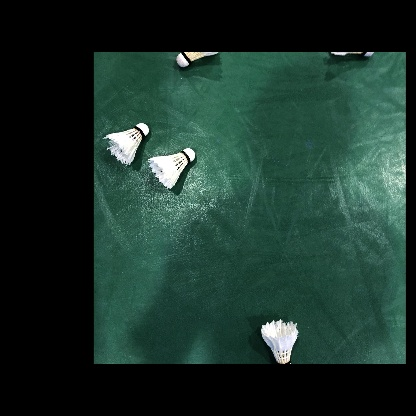ball_single: (103, 123, 149, 166), (148, 148, 195, 189), (261, 319, 298, 364), (176, 52, 219, 68)
